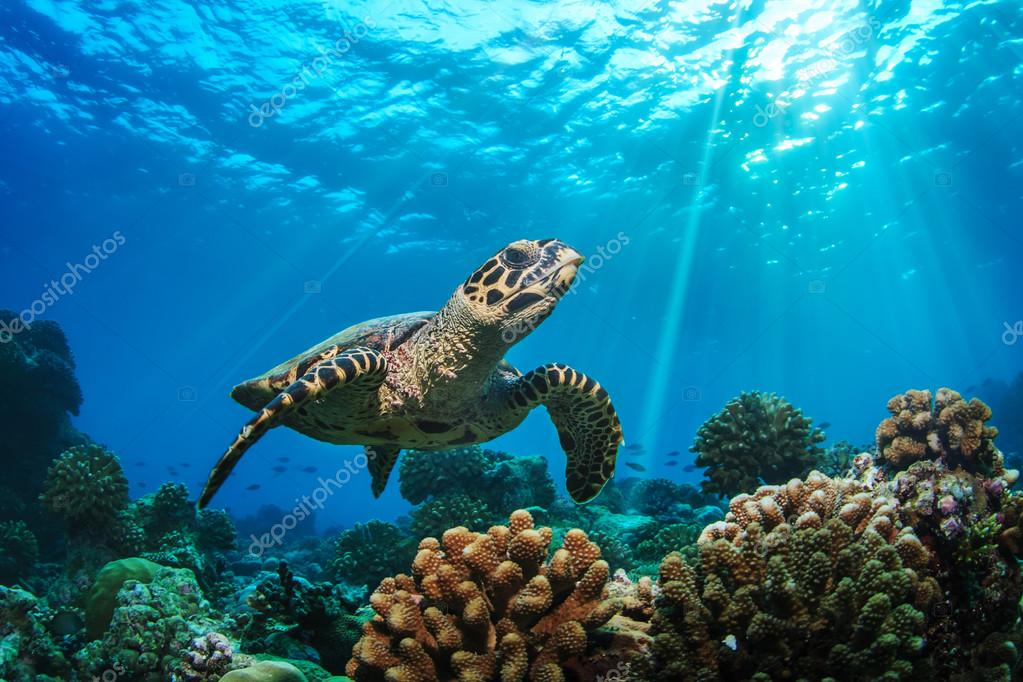turtle: (203, 235, 620, 504)
